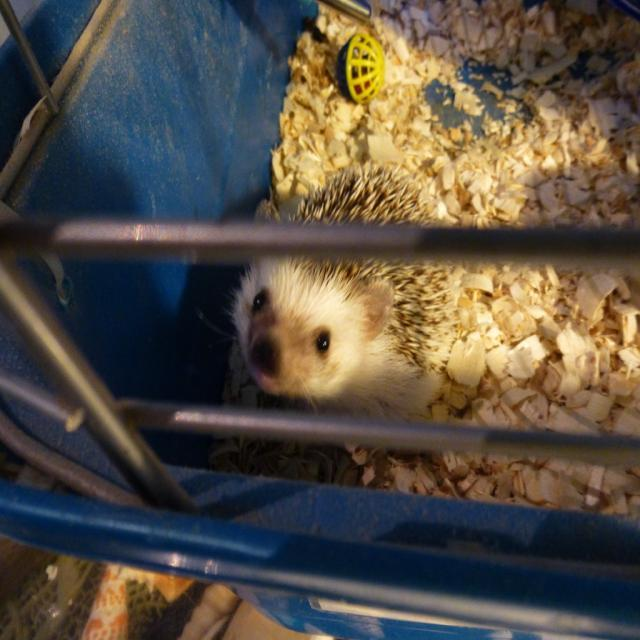rat: (201, 162, 461, 424)
